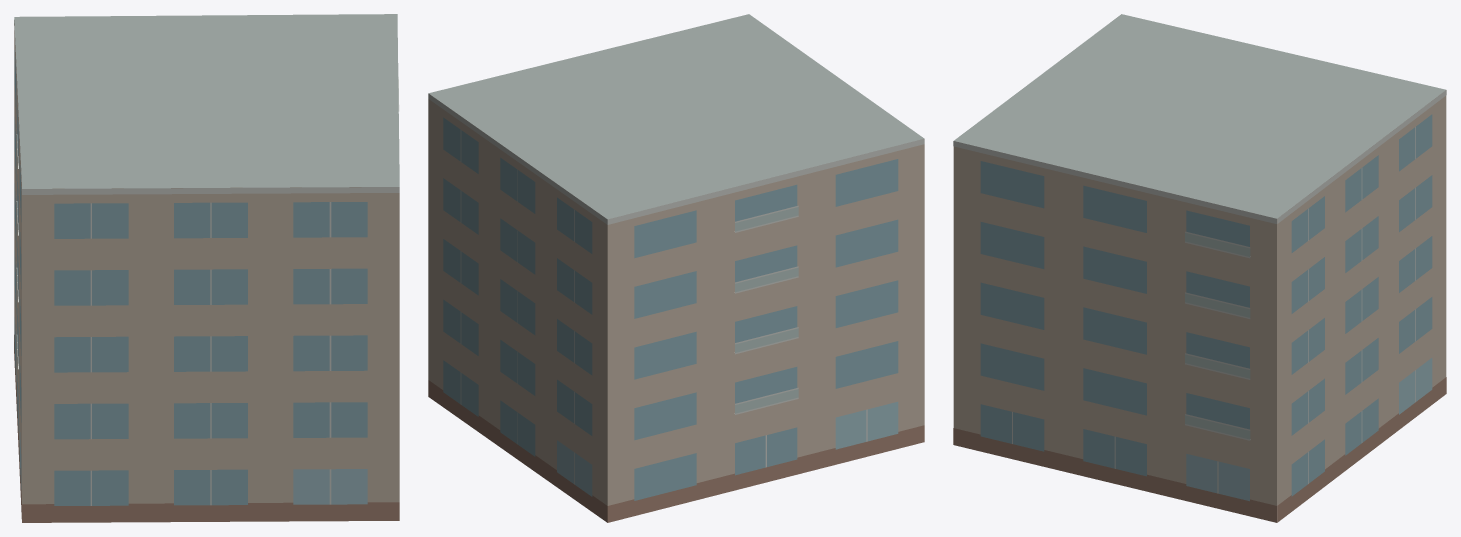
File: survey-upis-32940946.glb
The picture shows the model from 3 angles, left to right: view 1: azimuth 30°, elevation 25°; view 2: azimuth 150°, elevation 25°; view 3: azimuth 270°, elevation 25°; orthographic projection. The views are drawn at different scales.
Parts seen in each view (by area): view 1: survey-upis-32940946.tmp; view 2: survey-upis-32940946.tmp; view 3: survey-upis-32940946.tmp.
Boxes of the visible parts, x1,y1,x2,y2 form: survey-upis-32940946.tmp: (14, 14, 399, 522); survey-upis-32940946.tmp: (428, 14, 924, 522); survey-upis-32940946.tmp: (953, 14, 1446, 522).
Bounding box in the file's own units: 19.5 × 13.5 × 19.84.
